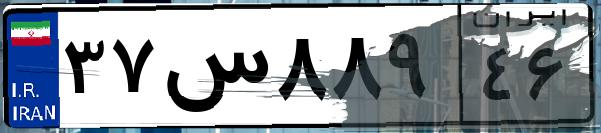3: (57, 26, 110, 100)
4: (475, 38, 525, 113)
6: (525, 38, 570, 115)
7: (110, 28, 158, 98)
8: (270, 28, 330, 110), (330, 28, 385, 110)
9: (385, 28, 445, 110)
س: (158, 20, 270, 120)
